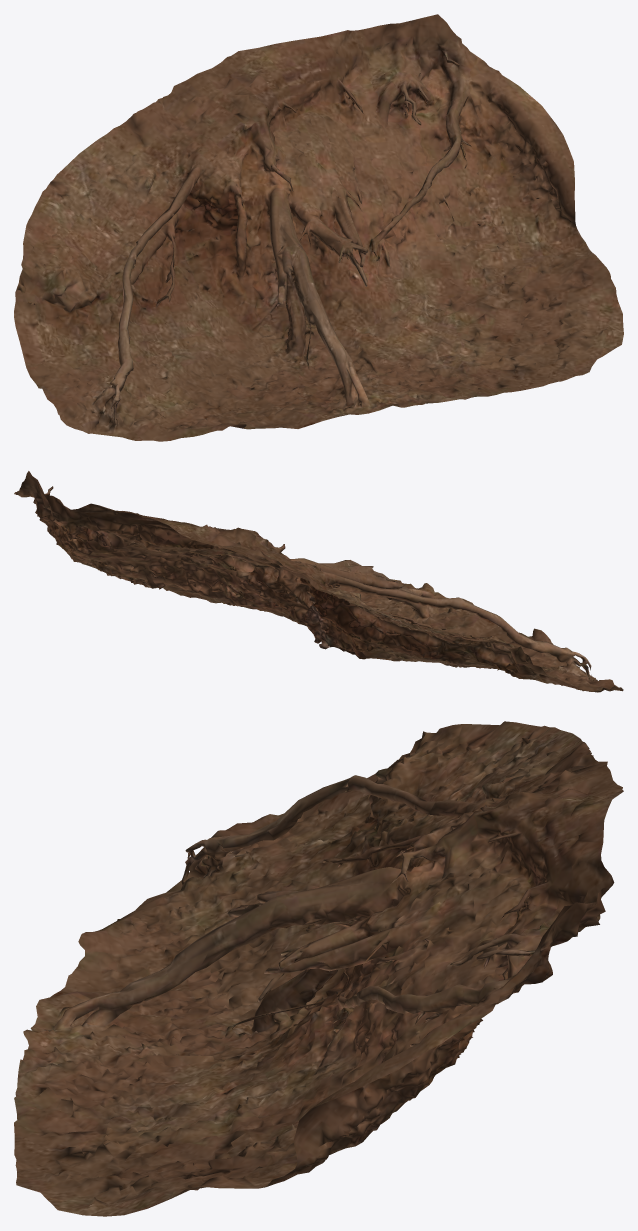
File: root_cluster_01.glb
The picture shows the model from 3 angles, top to bottom: view 1: azimuth 30°, elevation 25°; view 2: azimuth 150°, elevation 25°; view 3: azimuth 270°, elevation 25°; orthographic projection. The views are drawn at different scales.
Parts seen in each view (by area): view 1: root_cluster_01; view 2: root_cluster_01; view 3: root_cluster_01.
Boxes of the visible parts, x1,y1,x2,y2 form: root_cluster_01: (14, 14, 623, 441); root_cluster_01: (14, 471, 623, 692); root_cluster_01: (14, 721, 623, 1216).
Bounding box in the file's own units: 4.12 × 1.51 × 2.68.
Materials: 1 (1 with a texture image).
